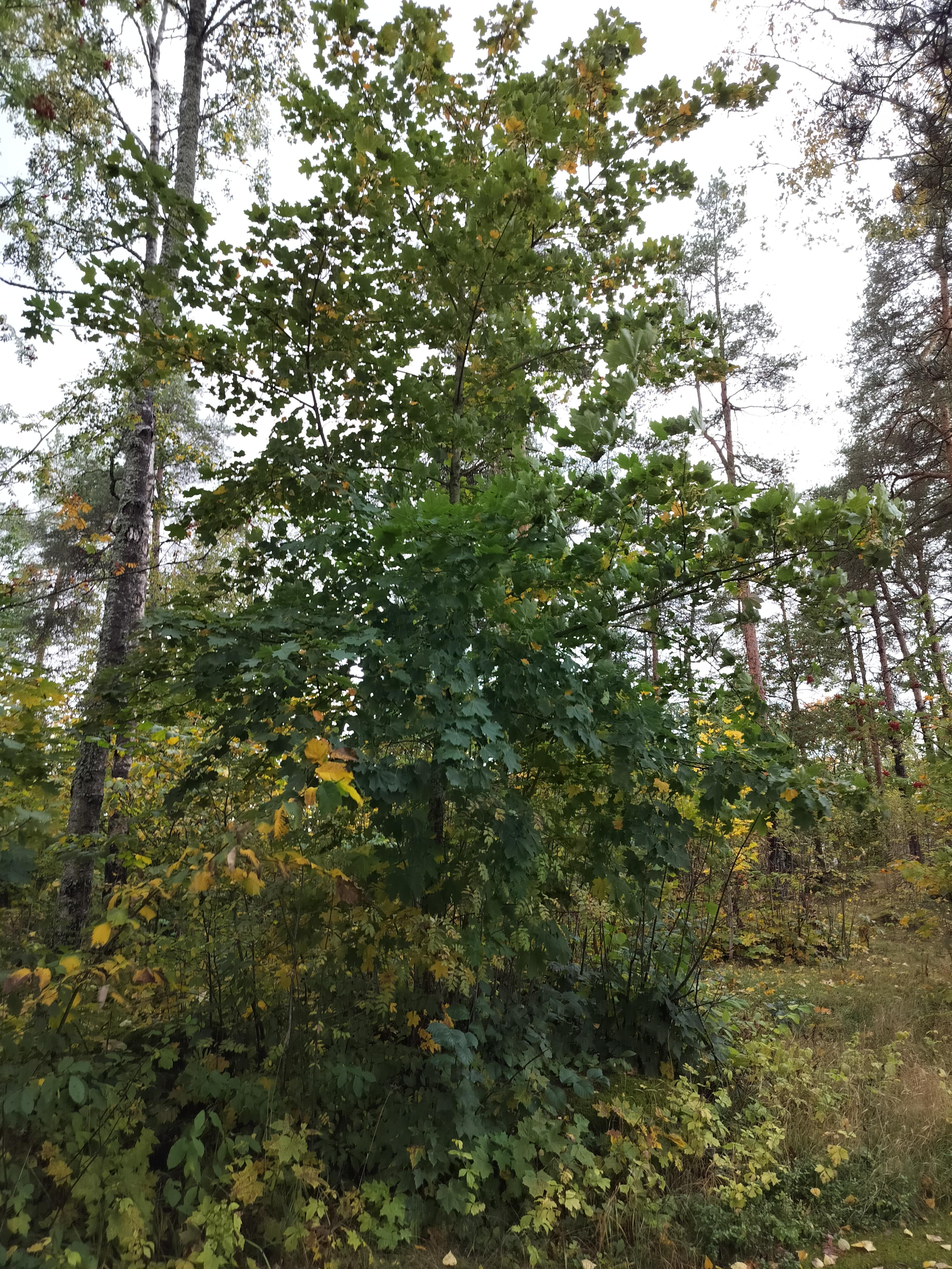Maple: (231, 0, 765, 1263)
